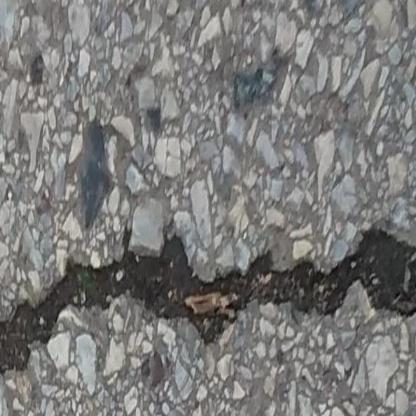Cracks: (0, 218, 416, 379)
